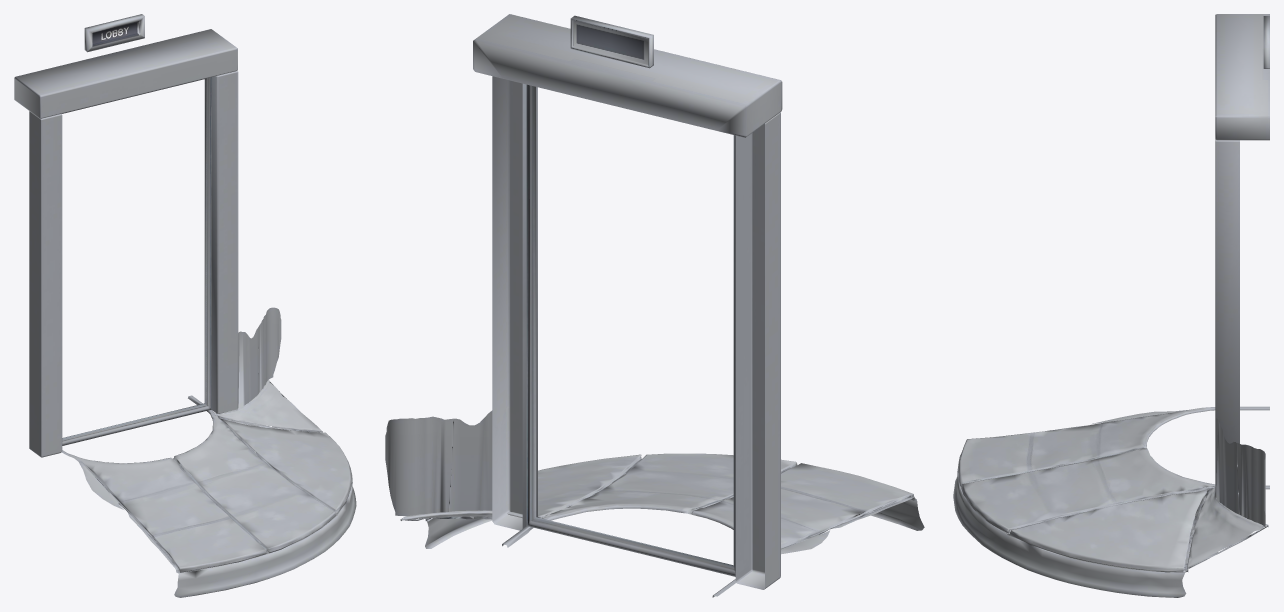
The model's file is original_glb.glb.
3 renders of one model, left to right at view 1: azimuth 30°, elevation 25°; view 2: azimuth 150°, elevation 25°; view 3: azimuth 270°, elevation 25°, orthographic. The views are drawn at different scales.
Visible parts, largest first — view 1: Minimal Steel Void Lobby; view 2: Minimal Steel Void Lobby; view 3: Minimal Steel Void Lobby.
Boxes of the visible parts, left/top/right/bottom form: Minimal Steel Void Lobby: left=14, top=14, right=356, bottom=597; Minimal Steel Void Lobby: left=385, top=14, right=924, bottom=597; Minimal Steel Void Lobby: left=953, top=14, right=1269, bottom=597.
Size of the model in its own units: 0.6348 by 0.998 by 0.5996.
1 material, 1 textured.
